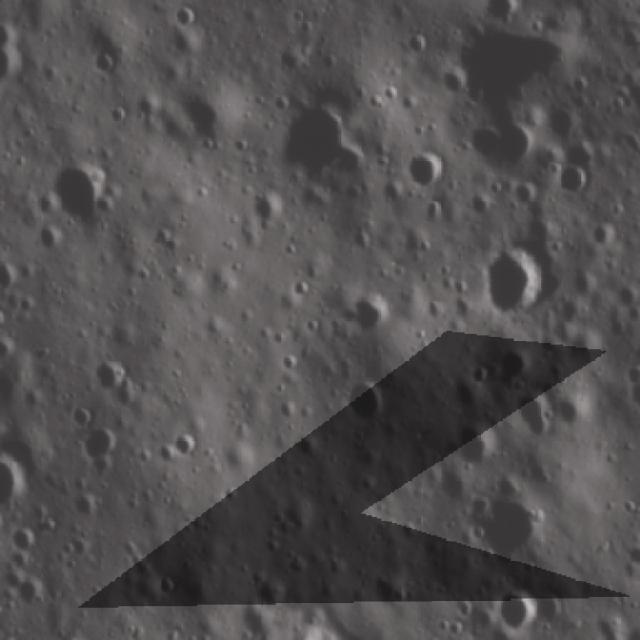crater: (448, 4, 580, 108), (270, 85, 370, 188), (478, 241, 558, 324), (468, 485, 552, 561), (44, 154, 118, 228), (167, 75, 238, 150), (215, 609, 378, 640), (465, 112, 537, 176), (71, 424, 123, 479), (338, 375, 390, 427), (507, 390, 558, 442), (454, 426, 503, 480), (489, 586, 537, 639), (234, 572, 294, 614), (0, 444, 32, 521), (343, 291, 395, 337), (486, 344, 537, 388), (0, 21, 29, 93), (85, 354, 127, 400), (407, 153, 450, 196), (13, 570, 53, 615), (365, 568, 407, 610), (244, 189, 282, 234), (168, 423, 208, 463), (553, 161, 590, 201), (86, 44, 122, 85), (585, 219, 624, 256), (484, 0, 521, 32), (34, 220, 64, 258), (170, 1, 201, 32), (38, 624, 96, 640), (617, 536, 640, 576), (152, 575, 182, 603), (288, 275, 317, 303), (624, 373, 640, 417)
